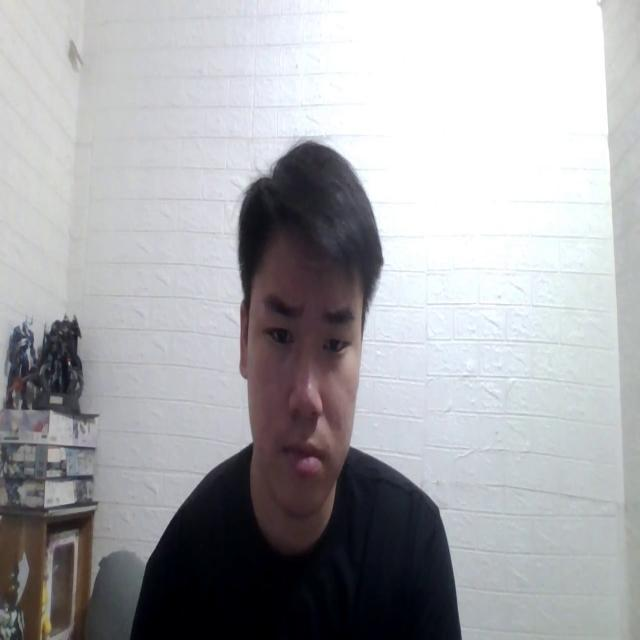student: (131, 134, 461, 640)
